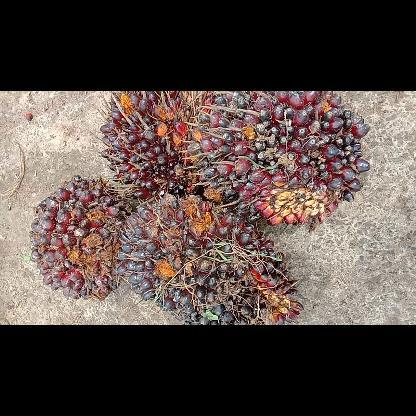Kurang masak: (183, 91, 372, 229), (117, 190, 309, 324), (28, 173, 134, 302), (98, 90, 216, 200)
